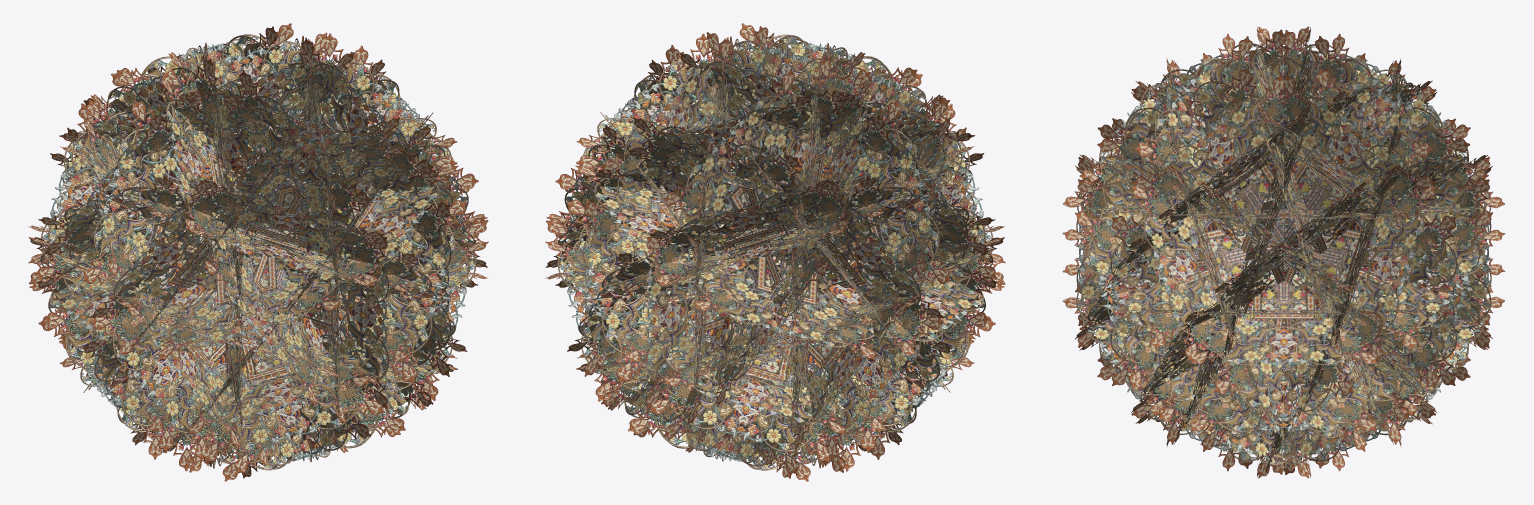
The model's file is GreatTruncatedIcosidodecahedron10.gltf.
3 renders of one model, left to right at view 1: azimuth 30°, elevation 25°; view 2: azimuth 150°, elevation 25°; view 3: azimuth 270°, elevation 25°, orthographic. The views are drawn at different scales.
Parts seen in each view (by area): view 1: GreatTruncatedIcosidodecahedron; view 2: GreatTruncatedIcosidodecahedron; view 3: GreatTruncatedIcosidodecahedron.
Boxes of the visible parts, box(x1,y1,x2,y2) form: GreatTruncatedIcosidodecahedron: box(28, 23, 488, 481); GreatTruncatedIcosidodecahedron: box(545, 23, 1005, 481); GreatTruncatedIcosidodecahedron: box(1062, 26, 1505, 478).
Bounding box in the file's own units: 2 × 2 × 2.
1 material, 1 textured.
